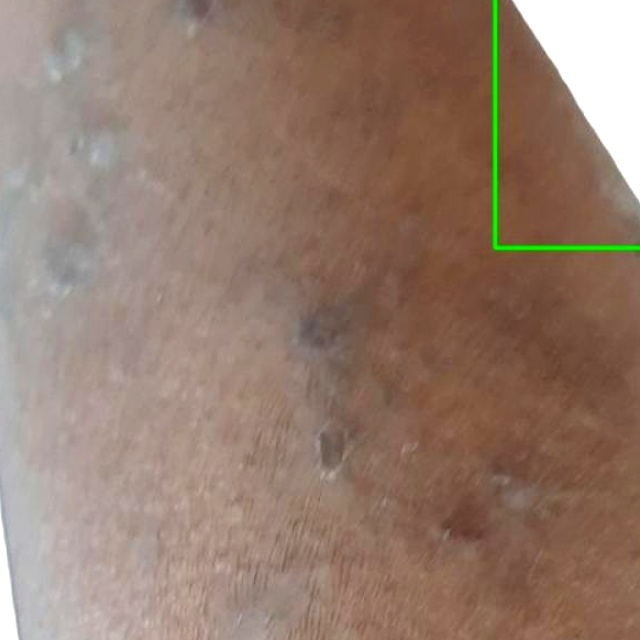Atopic Dermatitis: (495, 0, 639, 248)
